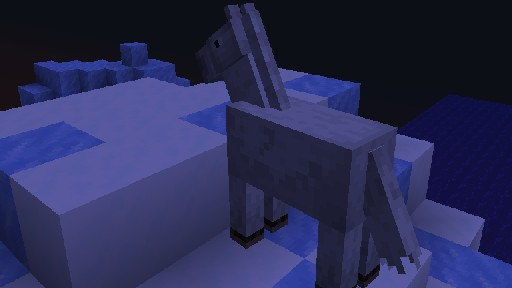horse: (194, 2, 422, 288)
